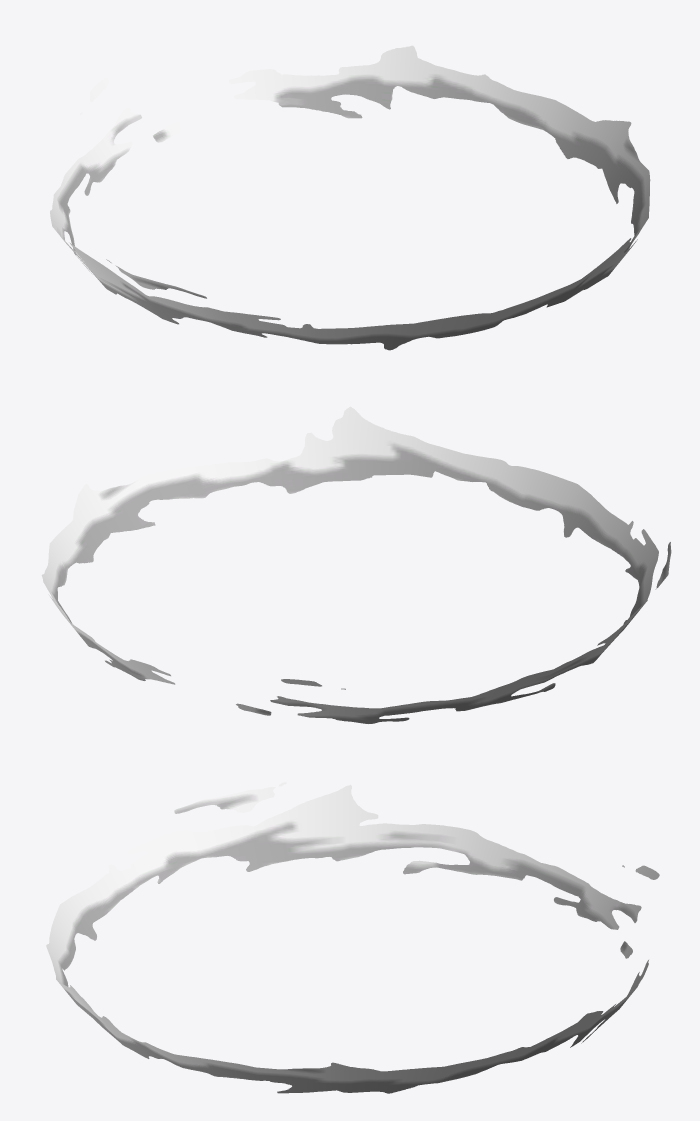
Rendered from huan_1117.FBX.
3 renders of one model, top to bottom at view 1: azimuth 30°, elevation 25°; view 2: azimuth 150°, elevation 25°; view 3: azimuth 270°, elevation 25°, orthographic.
Parts seen in each view (by area): view 1: Cylinder001_1117; view 2: Cylinder001_1117; view 3: Cylinder001_1117.
Part boxes in pixels (left/top/right/bottom): Cylinder001_1117: left=50, top=45, right=650, bottom=350; Cylinder001_1117: left=41, top=406, right=671, bottom=723; Cylinder001_1117: left=46, top=782, right=659, bottom=1093.
Size of the model in its own units: 4.65 by 4.65 by 0.6871.
